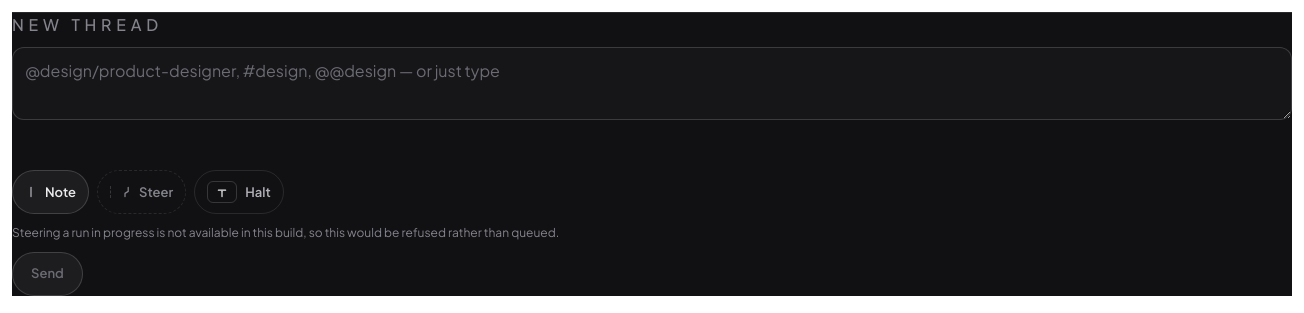
Test case: the preview › prints the parser’s own refusal, token included
Type "&sales hello" into the text box at (652, 84), box [12,47,1292,120]
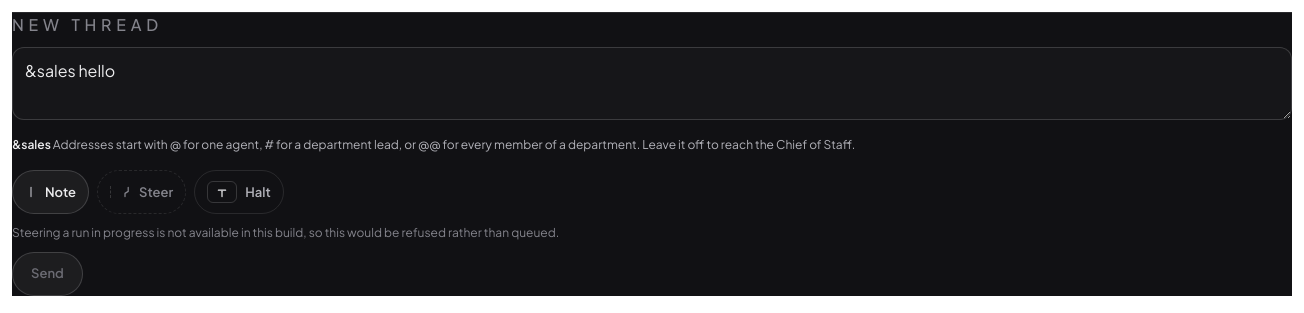
expect the text "&sales" is shown: met, box [12,138,51,152]
expect the text "Addresses start with @" is shown: met, box [53,138,855,152]
